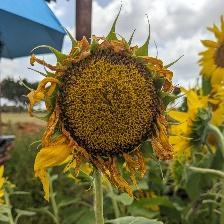sunflower: (23, 2, 195, 203)
